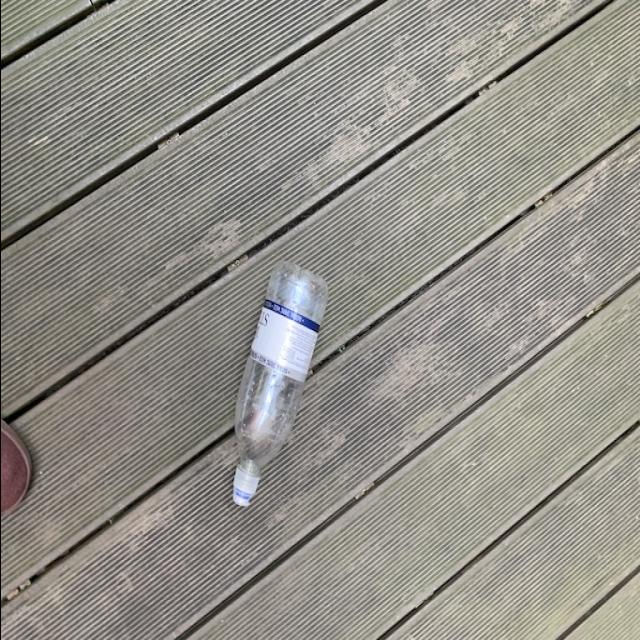litter: (231, 259, 327, 510)
